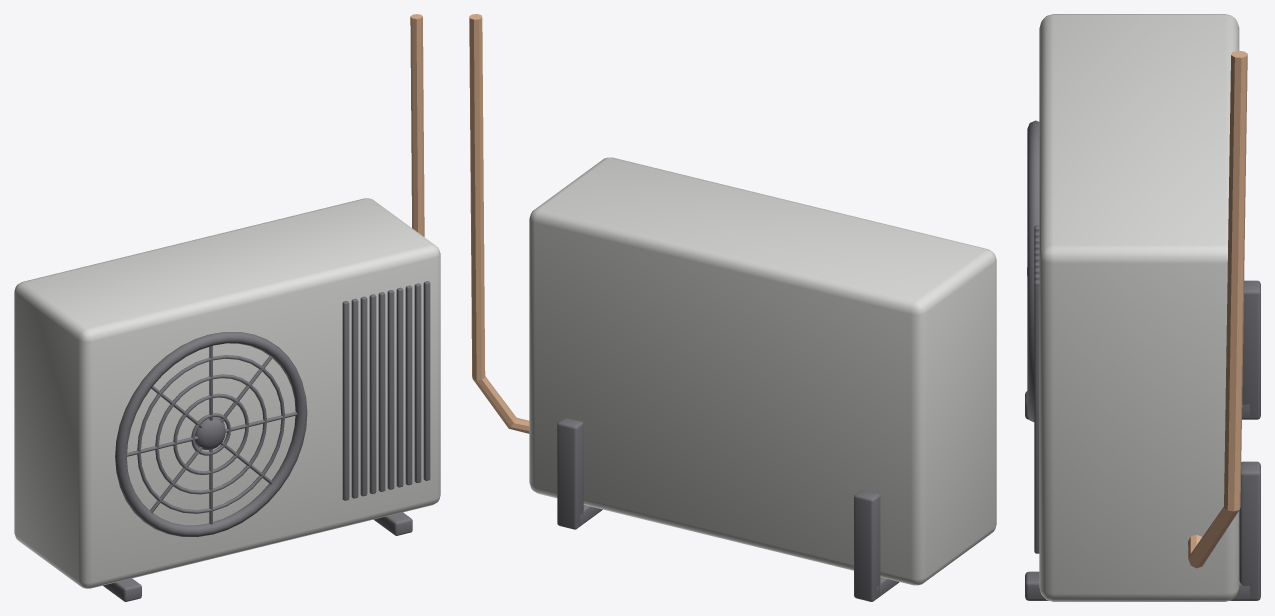
The model's file is ac_unit.glb.
3 renders of one model, left to right at view 1: azimuth 30°, elevation 25°; view 2: azimuth 150°, elevation 25°; view 3: azimuth 270°, elevation 25°, orthographic. The views are drawn at different scales.
Parts seen in each view (by area): view 1: ac_unit; view 2: ac_unit; view 3: ac_unit.
Boxes of the visible parts, bbox=[...] form: ac_unit: bbox=[14, 14, 440, 601]; ac_unit: bbox=[469, 14, 996, 601]; ac_unit: bbox=[1025, 14, 1260, 601].
Bounding box in the file's own units: 0.9117 × 0.9302 × 0.33.
